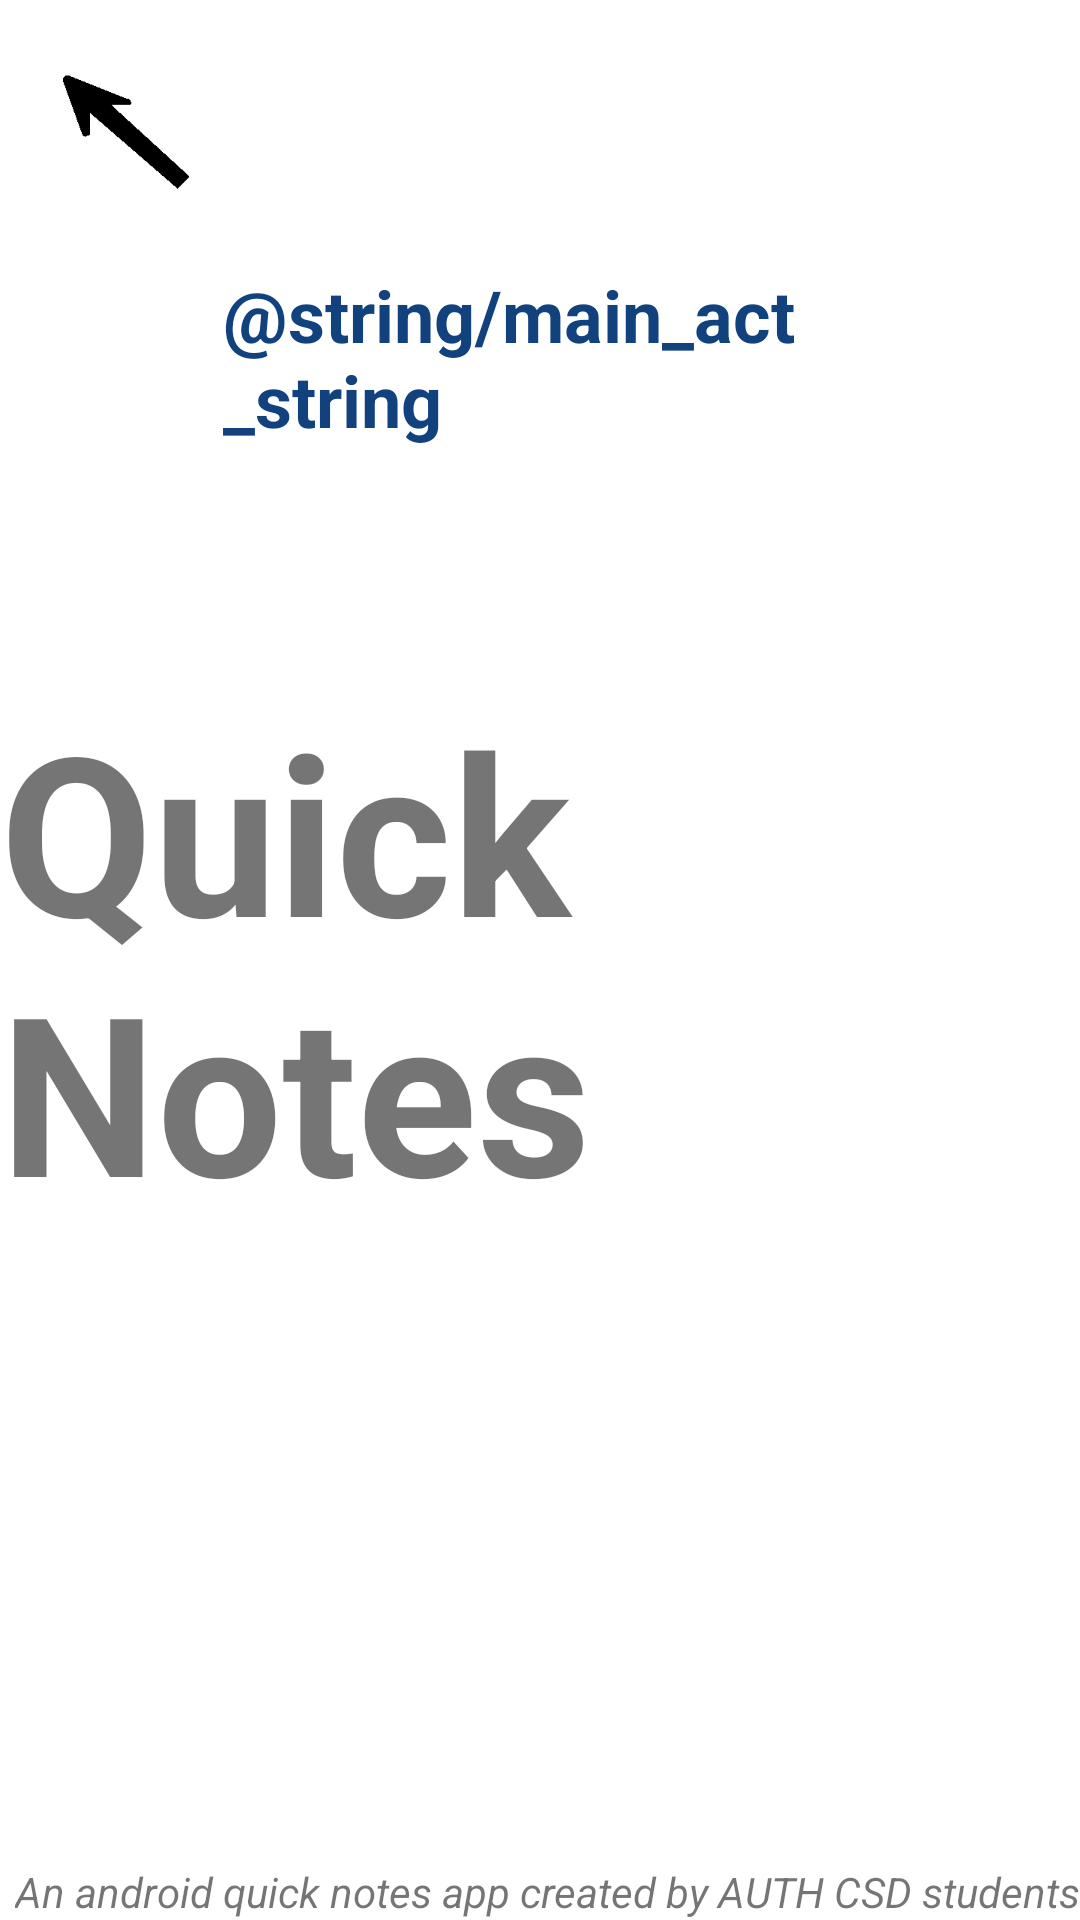

Locate icon controls on the screen. Image size 1080px x 1920px, boxes as (x1, y1, x2, y2).
arrow: (63, 75, 189, 189)
